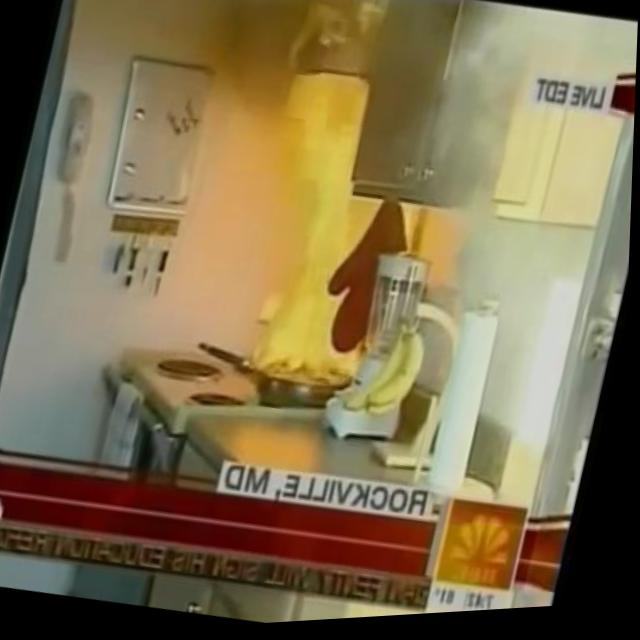fire: (219, 60, 457, 403)
